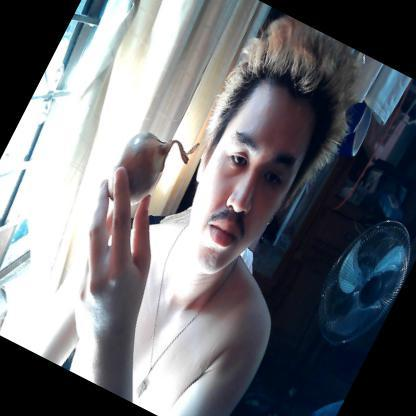onion: (92, 115, 188, 227)
